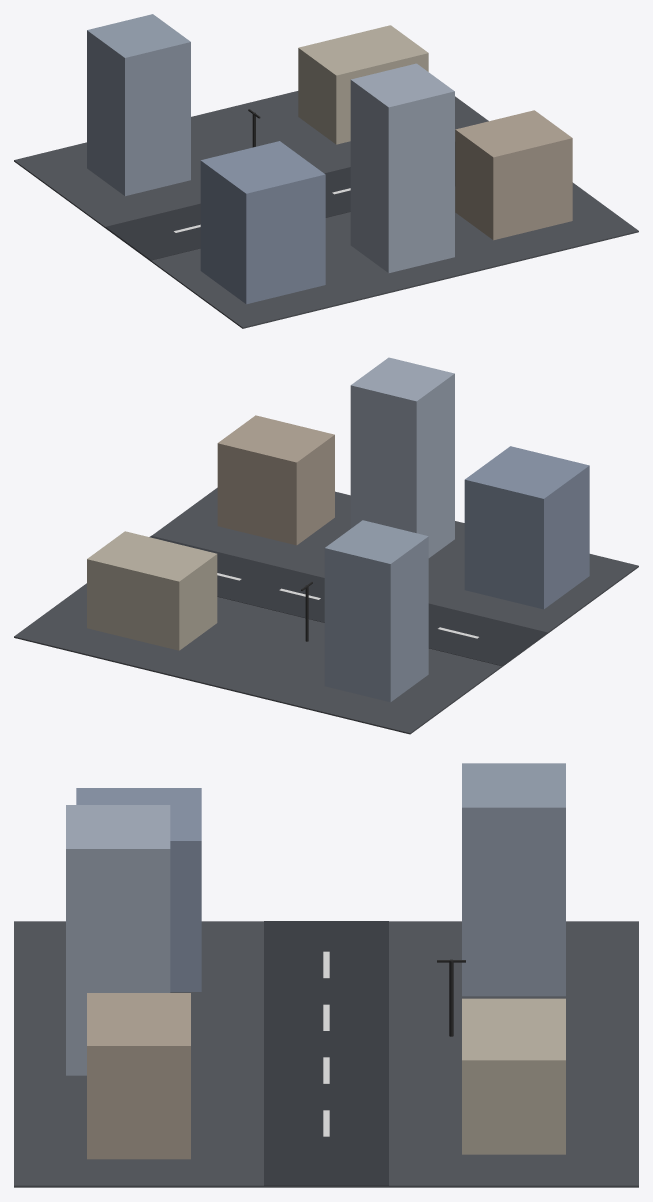
File: ville.glb
3 renders of one model, top to bottom at view 1: azimuth 30°, elevation 25°; view 2: azimuth 150°, elevation 25°; view 3: azimuth 270°, elevation 25°, orthographic. The views are drawn at different scales.
Parts seen in each view (by area): view 1: sol, decor_7, decor_6, decor_9, decor_8, decor_10, decor_1; view 2: sol, decor_6, decor_7, decor_9, decor_8, decor_10, decor_1; view 3: sol, decor_1, decor_9, decor_7, decor_8, decor_10, decor_6.
Boxes of the visible parts, x1=… form: sol: x1=14, y1=91, x2=638, y2=328; decor_7: x1=350, y1=63, x2=454, y2=272; decor_6: x1=200, y1=141, x2=325, y2=304; decor_9: x1=87, y1=14, x2=190, y2=196; decor_8: x1=455, y1=110, x2=572, y2=240; decor_10: x1=298, y1=25, x2=428, y2=144; decor_1: x1=106, y1=142, x2=455, y2=260; sol: x1=14, y1=487, x2=638, y2=734; decor_6: x1=464, y1=446, x2=589, y2=609; decor_7: x1=350, y1=357, x2=454, y2=557; decor_9: x1=324, y1=520, x2=428, y2=702; decor_8: x1=217, y1=415, x2=334, y2=545; decor_10: x1=87, y1=531, x2=217, y2=650; decor_1: x1=149, y1=535, x2=547, y2=665; sol: x1=14, y1=921, x2=638, y2=1187; decor_1: x1=264, y1=921, x2=388, y2=1185; decor_9: x1=462, y1=763, x2=565, y2=996; decor_7: x1=66, y1=805, x2=170, y2=1075; decor_8: x1=87, y1=993, x2=190, y2=1159; decor_10: x1=462, y1=998, x2=565, y2=1154; decor_6: x1=76, y1=788, x2=201, y2=991.
Size of the model in its own units: 30 by 12.1 by 30.
